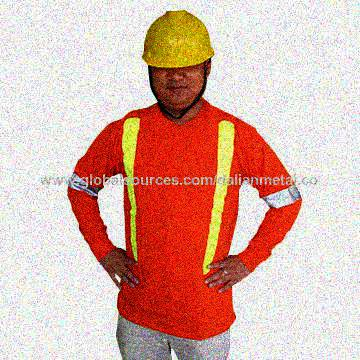helmet: (137, 7, 217, 111)
